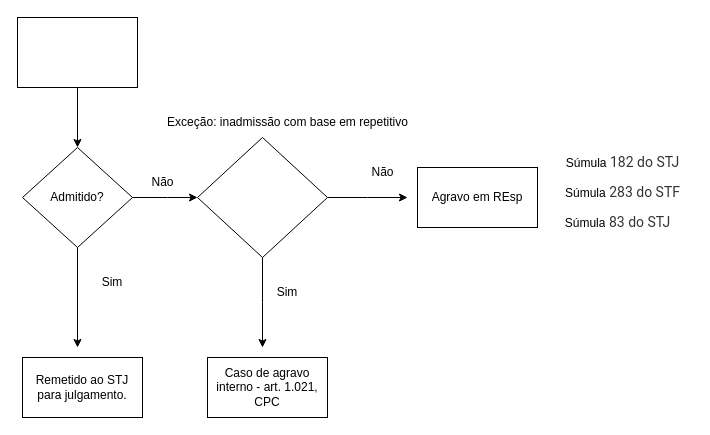
Image size: 710x435. Some labels were removed from this diagram. Each missing label, with the box of its shape:
Recurso Especial: (16, 16, 138, 88)
Se enquadra na exceção?: (196, 136, 328, 258)
